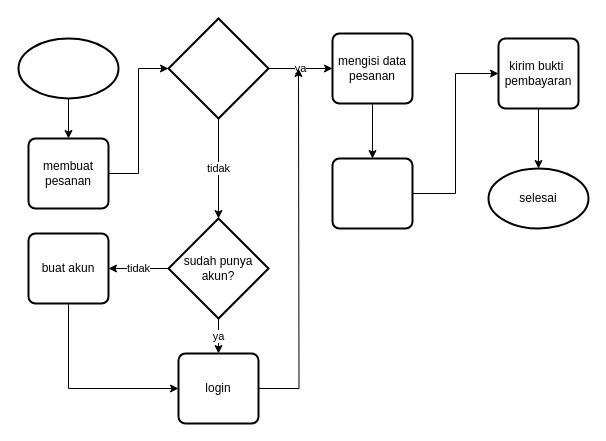
Some shapes in this 606 by 441 pixel diagram are drawn without their labels. Each missing label, with the centre of its shape:
"mengirim desain" goes at (372,193).
"Mulai" goes at (68,68).
"sudah login?" goes at (218,68).
